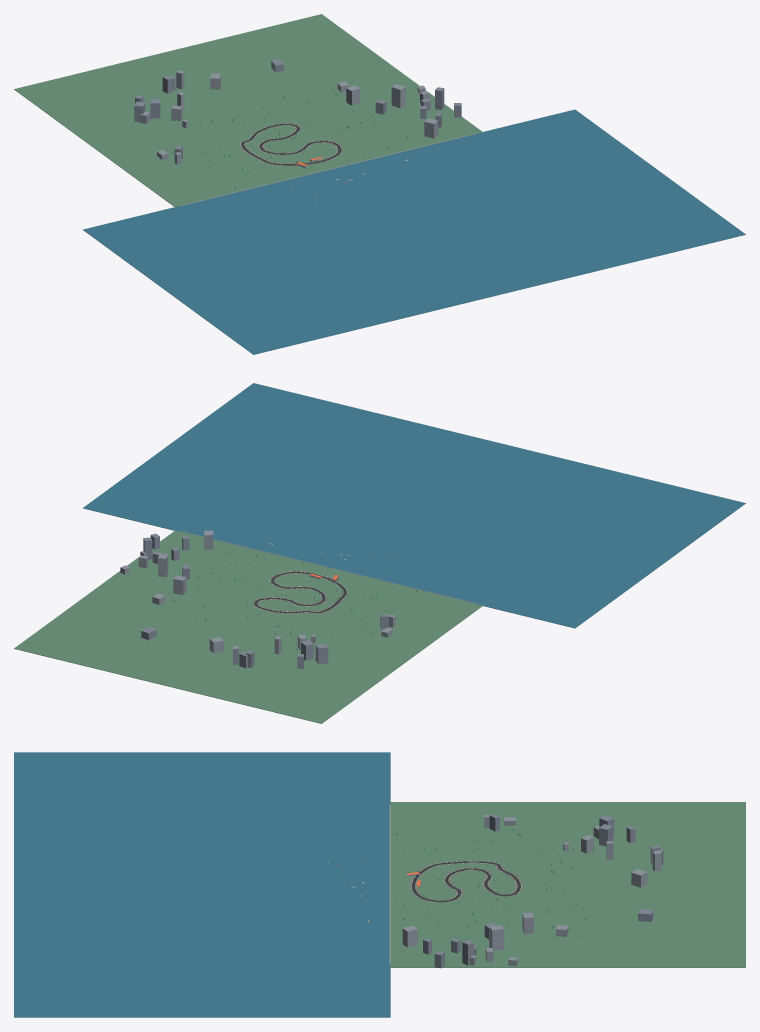
Rendered from circuit.glb.
The picture shows the model from 3 angles, top to bottom: view 1: azimuth 30°, elevation 25°; view 2: azimuth 150°, elevation 25°; view 3: azimuth 270°, elevation 25°; orthographic projection. The views are drawn at different scales.
Visible parts, largest first — view 1: Sea, Ground, City, Road; view 2: Sea, Ground, City, Road; view 3: Sea, Ground, City, Road.
Part boxes in pixels (x1,y1,x2,y2): Sea: (83, 109, 745, 354); Ground: (14, 14, 482, 206); City: (134, 59, 461, 164); Road: (241, 123, 341, 165); Sea: (83, 383, 745, 628); Ground: (14, 530, 482, 723); City: (120, 530, 395, 668); Road: (254, 571, 346, 613); Sea: (14, 752, 390, 1017); Ground: (390, 802, 745, 967); City: (402, 813, 663, 968); Road: (411, 861, 520, 902).
Size of the model in its own units: 2400 by 90.22 by 2802.
